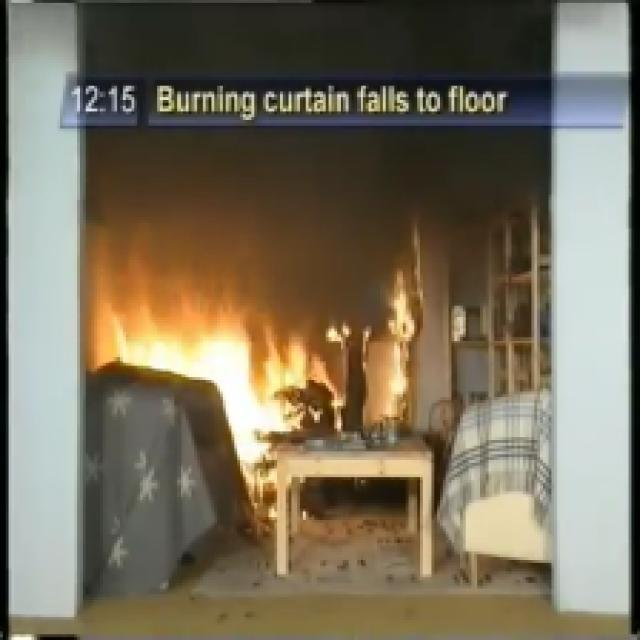Fire: (123, 312, 274, 510)
